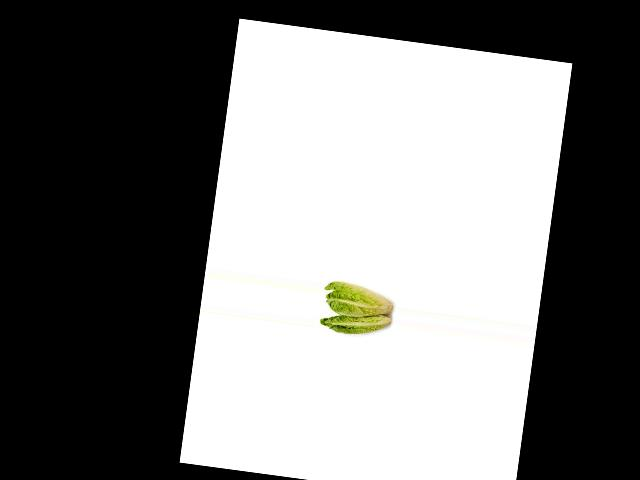lettuce: (317, 305, 396, 347)
